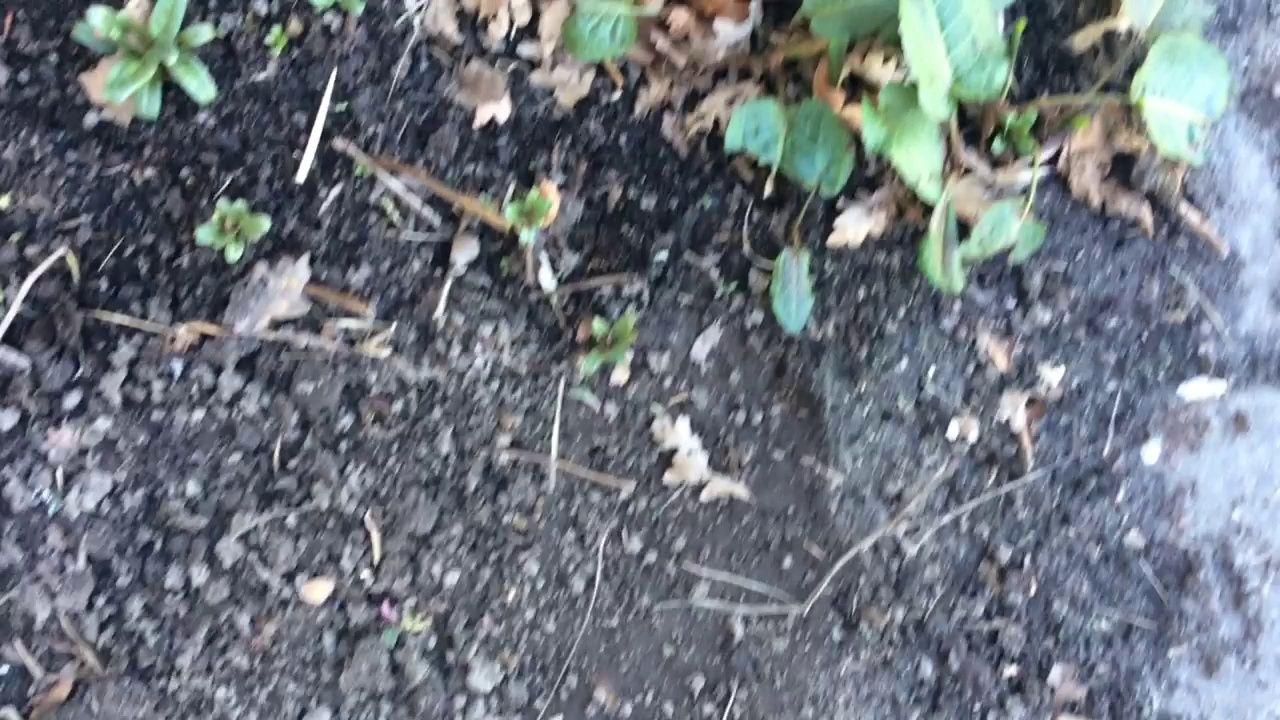rumex: (558, 8, 1246, 346)
